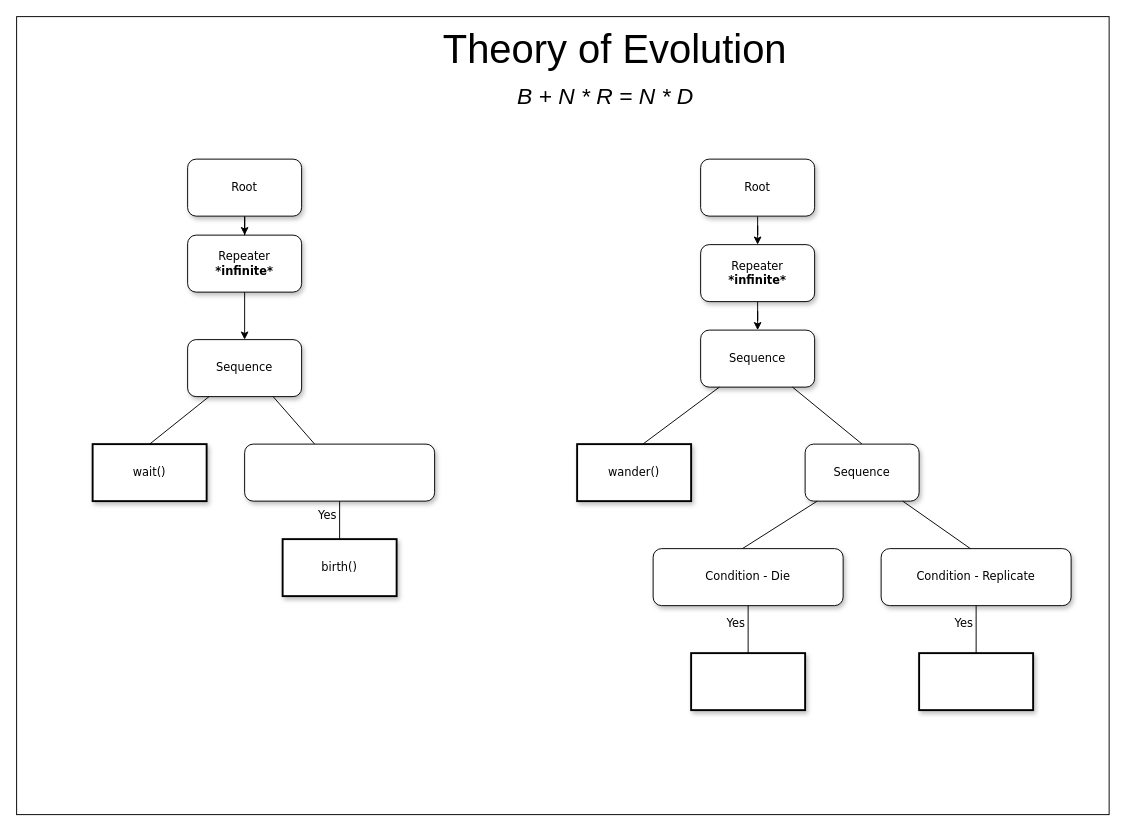
Some shapes in this 1126 by 831 pixel diagram are drawn without their labels. The shapes that lost their labels are listed below. From the top down, each one's centre as x and y in pixels, then its label:
(x=340, y=473): Condition - Spontaneous
(x=748, y=682): die()
(x=976, y=682): replicate ()
